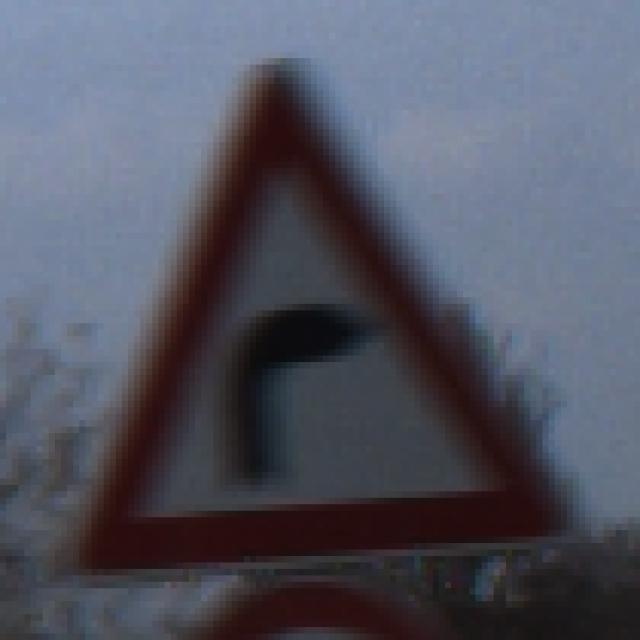right hand curve: (64, 52, 573, 584)
